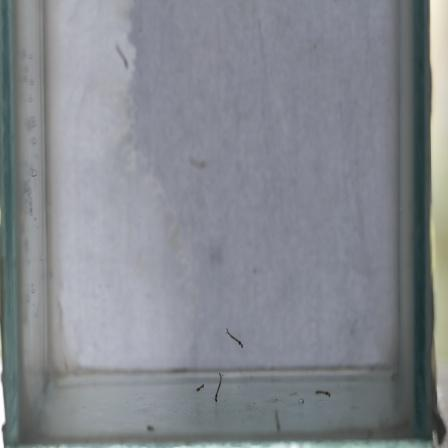Jentik-Nyamuk: (221, 323, 247, 353), (212, 368, 225, 409), (193, 383, 209, 396)
